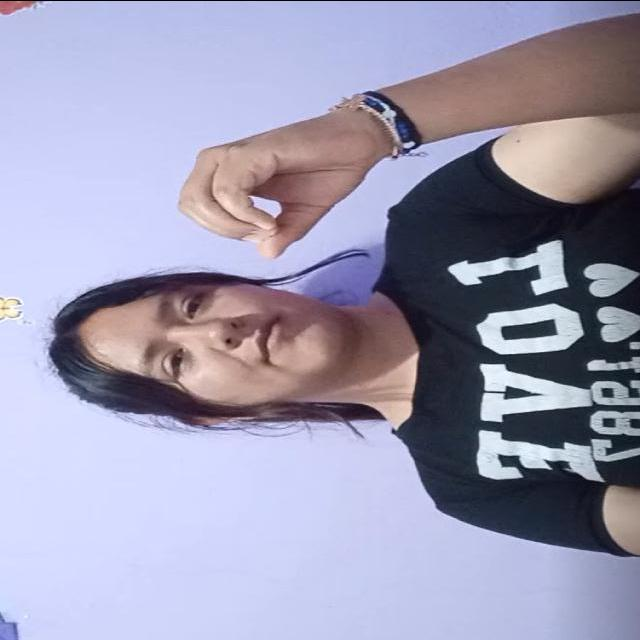O: (147, 88, 372, 267)
